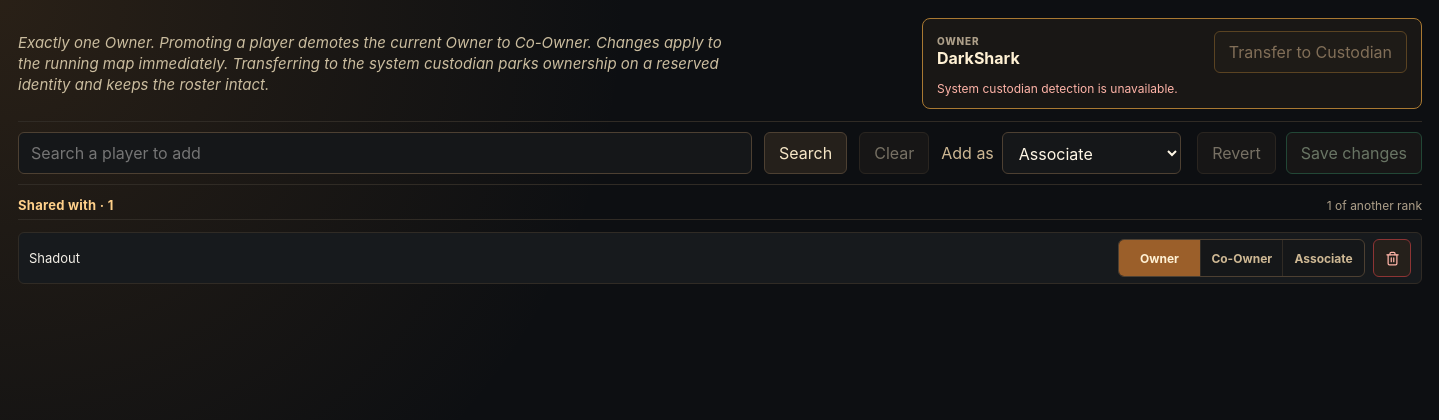
Test: BasePermissionsTab ranks the editor cannot represent › resolves a duplicate Owner by promoting it
Click the radio button with aria-label "Owner for Shadout". click: (1160, 259)
box: [1119, 240, 1200, 278]
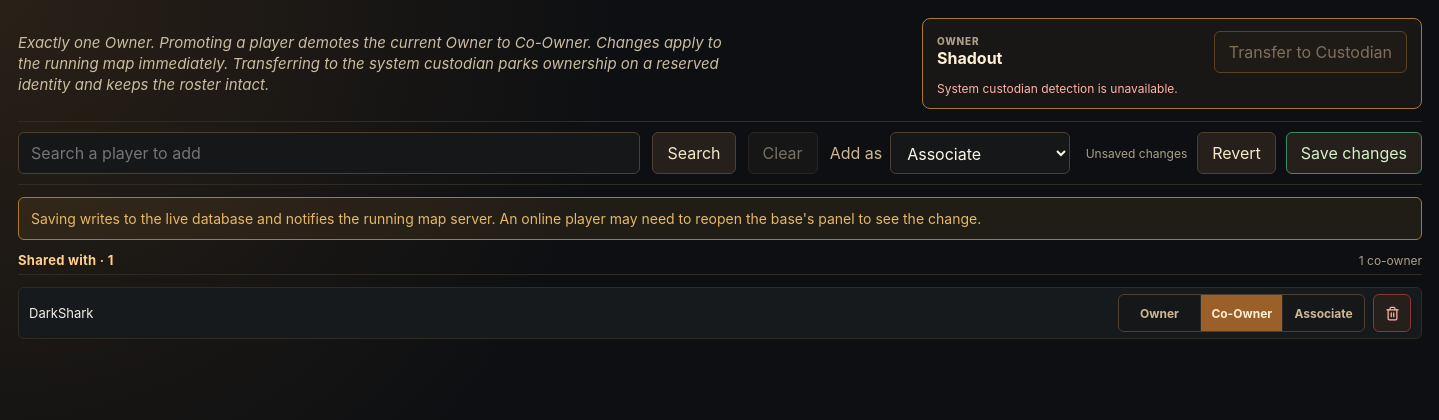
Expected: the text with class "bases-permissions-owner-name" reads "Shadout", [937, 48, 1002, 68]
Expected: the radio button with aria-label "Co-Owner for DarkShark" is checked, [1200, 295, 1282, 332]
Expected: the text "of another rank" is gone
